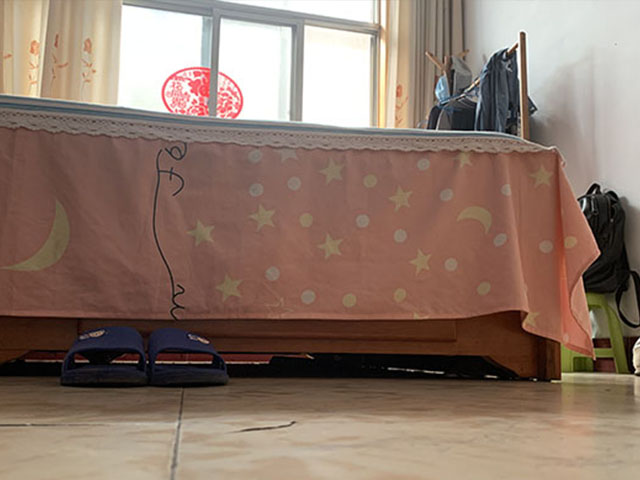bed: (1, 93, 603, 384)
slippers: (58, 325, 149, 386), (149, 328, 231, 384)
stool: (564, 290, 631, 378)
